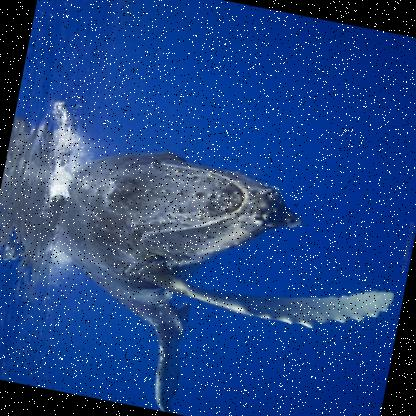blue_whale: (14, 118, 410, 415)
